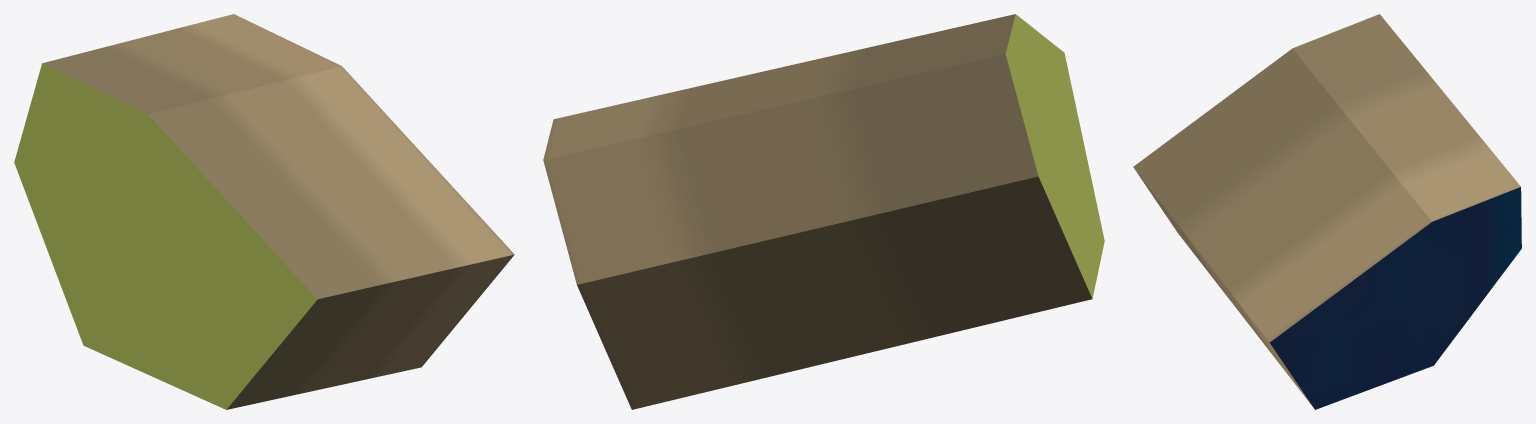
The model's file is 05ee_Bahamas.glb.
3 views of the same model, side by side, from view 1: azimuth 30°, elevation 25°; view 2: azimuth 150°, elevation 25°; view 3: azimuth 270°, elevation 25° (orthographic). The views are drawn at different scales.
Parts seen in each view (by area): view 1: part_0; view 2: part_0; view 3: part_0.
Boxes of the visible parts, left/top/right/bottom form: part_0: left=14, top=14, right=514, bottom=409; part_0: left=543, top=14, right=1104, bottom=409; part_0: left=1133, top=14, right=1521, bottom=409.
Size of the model in its own units: 0.2536 by 0.2013 by 0.262.
1 material, 1 textured.
